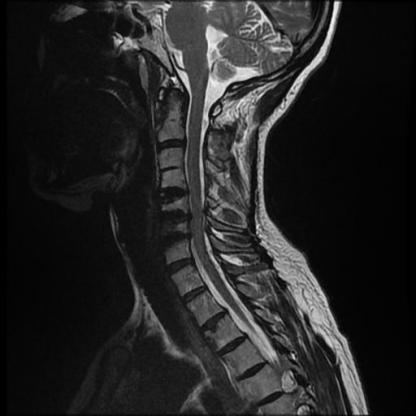Disc Protrusionrotation: (159, 184, 188, 204), (162, 209, 189, 230), (159, 165, 184, 174)
Osteophytesrotation: (159, 184, 188, 204), (162, 209, 189, 230), (159, 165, 184, 174)
